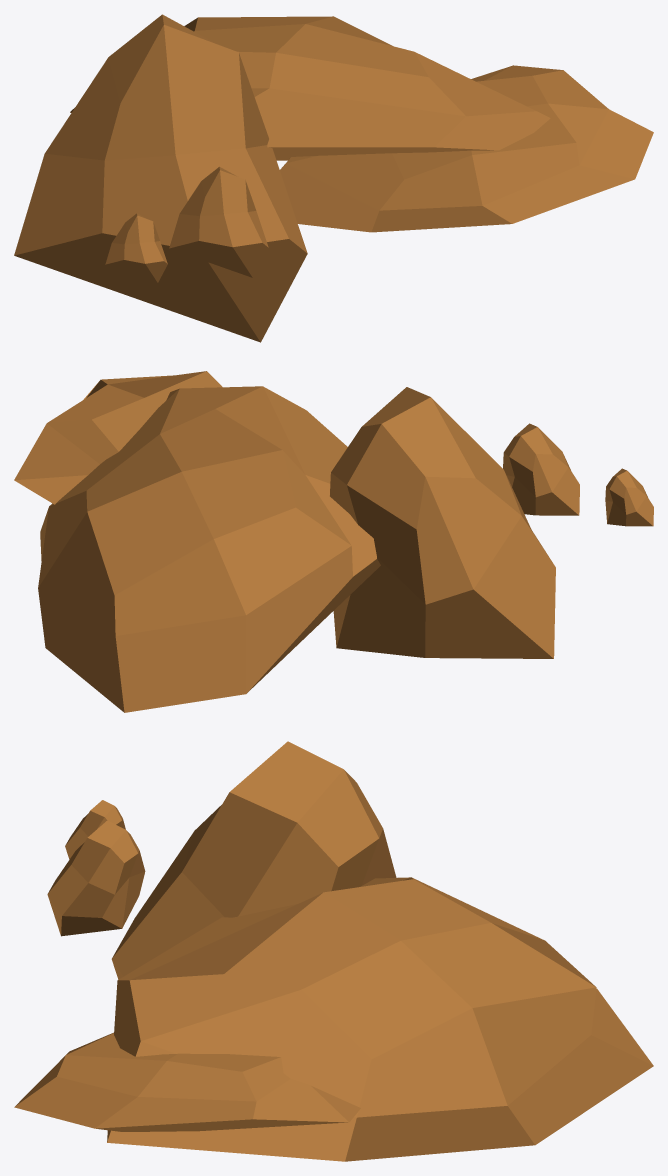
File: 02drawfpeijian.glb
The picture shows the model from 3 angles, top to bottom: view 1: azimuth 30°, elevation 25°; view 2: azimuth 150°, elevation 25°; view 3: azimuth 270°, elevation 25°; orthographic projection. The views are drawn at different scales.
Visible parts, largest first — view 1: Cube.002, Cube.003, Cube.004, Cube.001, Cube.005; view 2: Cube.004, Cube.002, Cube.003, Cube.001, Cube.005; view 3: Cube.004, Cube.002, Cube.003, Cube.001, Cube.005.
Part boxes in pixels (x1,y1,x2,y2): Cube.002: [14, 14, 307, 342]; Cube.003: [280, 65, 653, 232]; Cube.004: [70, 16, 550, 160]; Cube.001: [169, 166, 268, 277]; Cube.005: [105, 213, 167, 282]; Cube.004: [38, 386, 380, 712]; Cube.002: [330, 387, 555, 658]; Cube.003: [14, 371, 222, 504]; Cube.001: [503, 423, 579, 515]; Cube.005: [605, 468, 653, 526]; Cube.004: [107, 877, 653, 1161]; Cube.002: [111, 741, 396, 979]; Cube.003: [14, 1032, 360, 1131]; Cube.001: [47, 820, 145, 936]; Cube.005: [65, 800, 125, 859].
Bounding box in the file's own units: 3.77 × 1.88 × 3.4.
